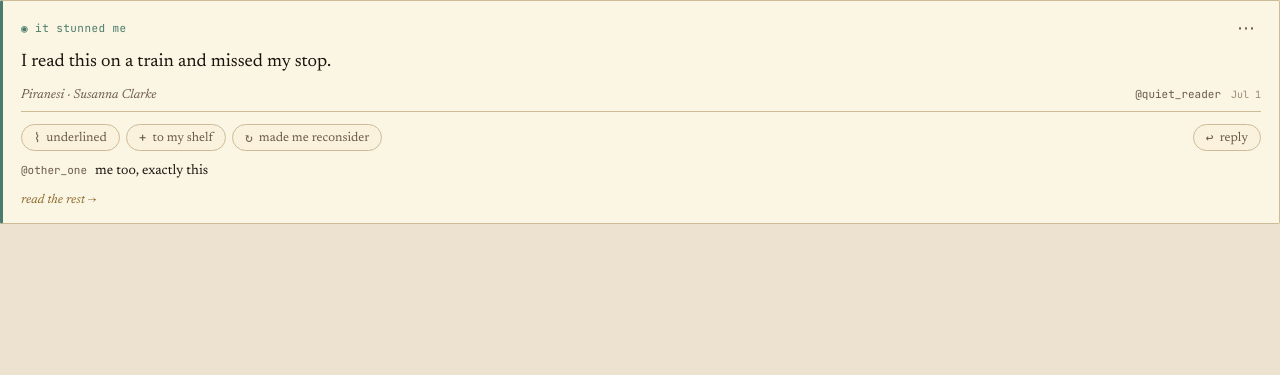
EchoCard — inline replies [F6.2] › rolls the reply back and surfaces an error on failure
Click the button "↩ reply" at (1227, 137), box [1193,124,1261,151]
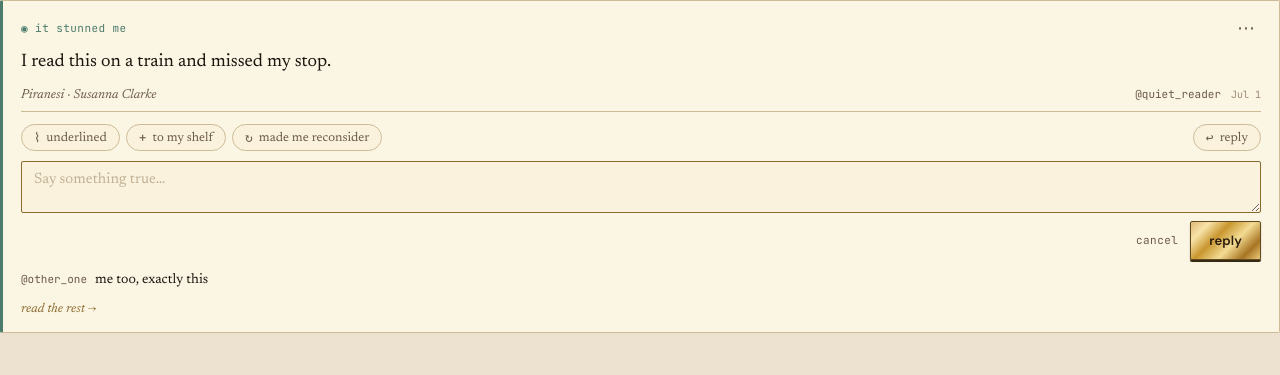
Type "gone soon" into the text box named "your reply" at (641, 187), box [21,161,1261,213]
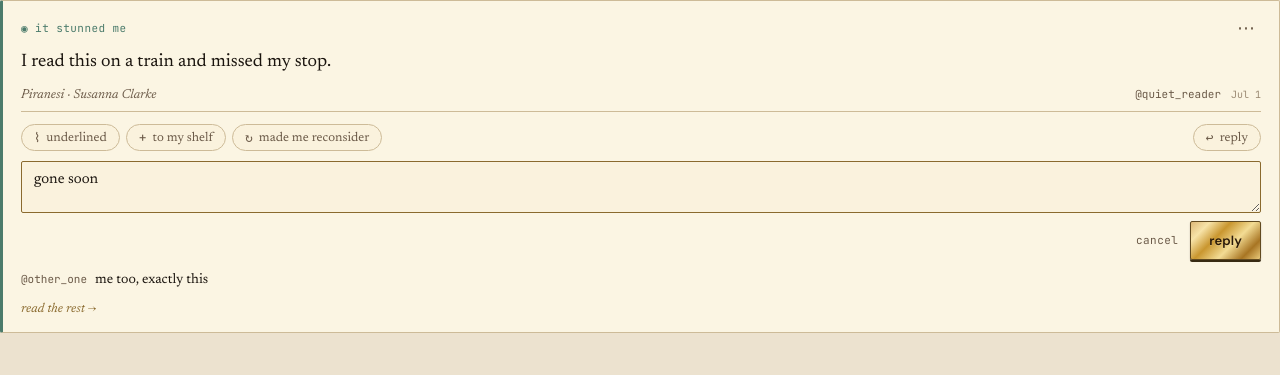
Click the button "reply" at (1226, 240), box [1190,221,1261,260]
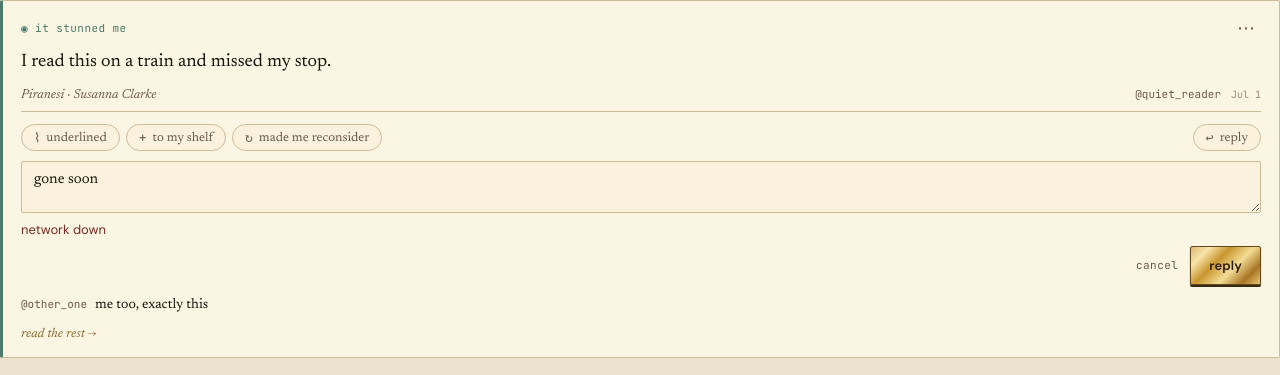
Expected: the message reads "network down", [21,221,106,238]
